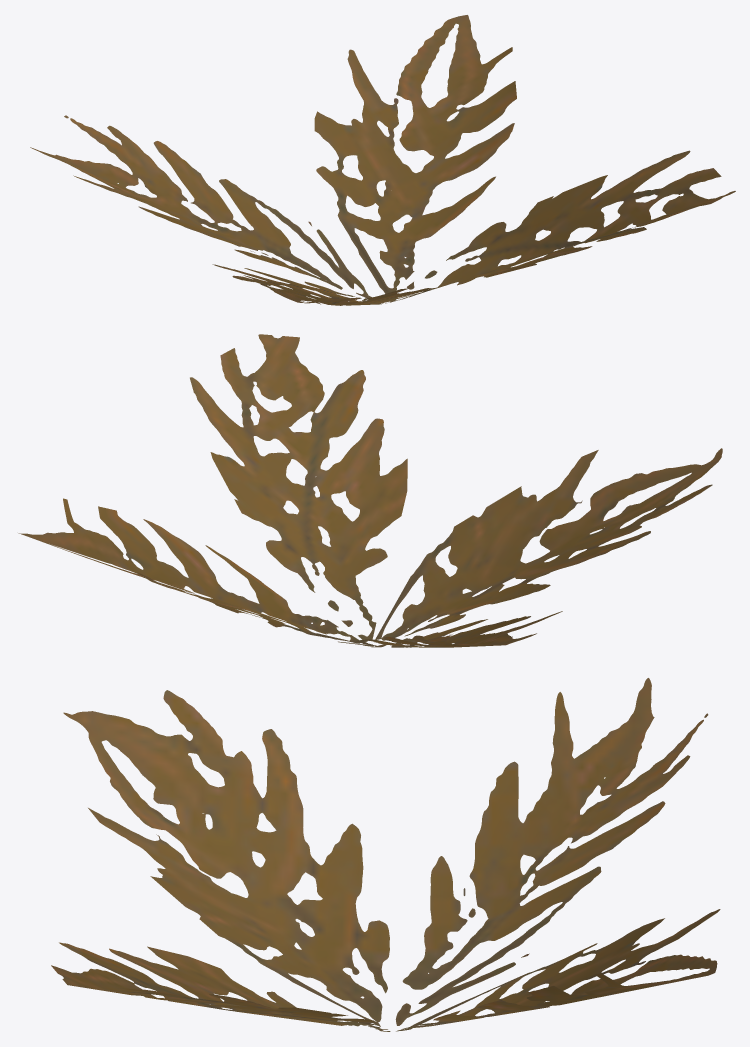
File: oVgtAIO1E.FBX
The picture shows the model from 3 angles, top to bottom: view 1: azimuth 30°, elevation 25°; view 2: azimuth 150°, elevation 25°; view 3: azimuth 270°, elevation 25°; orthographic projection. The views are drawn at different scales.
Parts seen in each view (by area): view 1: oVgtAIO1E; view 2: oVgtAIO1E; view 3: oVgtAIO1E.
Boxes of the visible parts, <box> form: oVgtAIO1E: <box>30,15,735,305</box>; oVgtAIO1E: <box>18,334,722,647</box>; oVgtAIO1E: <box>51,678,720,1031</box>.
Size of the model in its own units: 8.03 by 7.73 by 2.28.
Materials: 1 (1 with a texture image).
